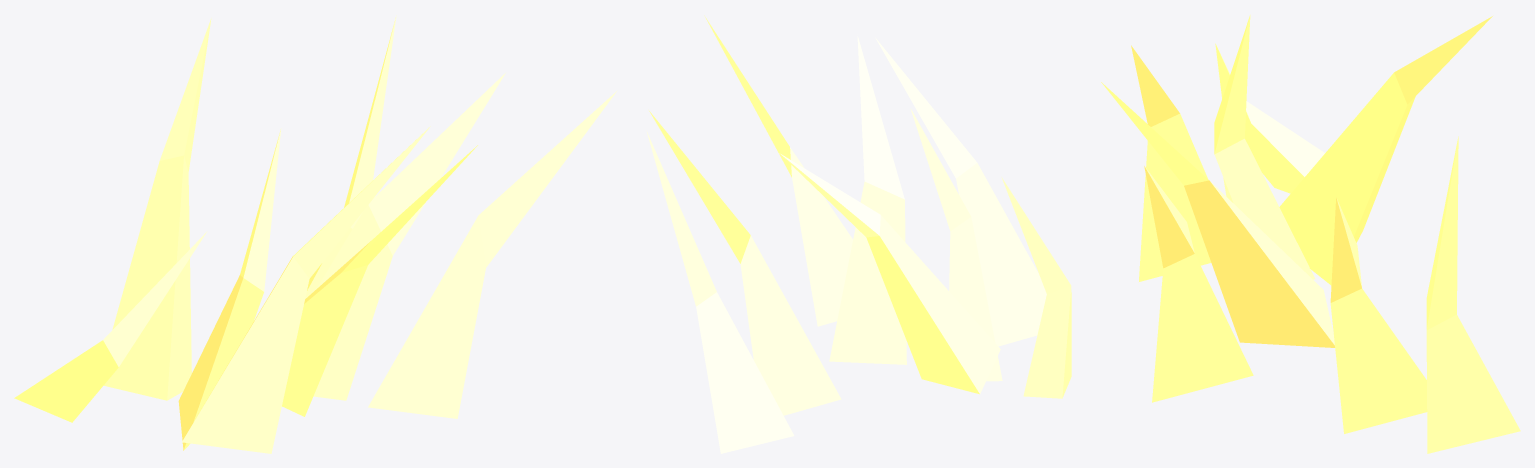
Rendered from grassClump.glb.
The picture shows the model from 3 angles, left to right: view 1: azimuth 30°, elevation 25°; view 2: azimuth 150°, elevation 25°; view 3: azimuth 270°, elevation 25°; orthographic projection. The views are drawn at different scales.
Visible parts, largest first — view 1: GrassClump; view 2: GrassClump; view 3: GrassClump.
Boxes of the visible parts, bbox=[...] form: GrassClump: bbox=[14, 15, 617, 453]; GrassClump: bbox=[646, 15, 1071, 453]; GrassClump: bbox=[1101, 15, 1520, 453].
Size of the model in its own units: 0.9666 by 0.6398 by 0.6315.
